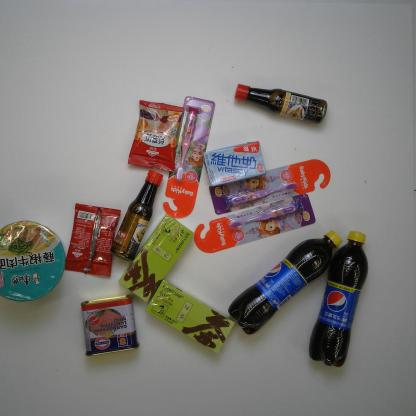Canned Food: (81, 292, 138, 359)
Drink: (229, 231, 346, 333), (311, 222, 368, 369)
Instant Drink: (148, 279, 239, 351), (120, 218, 193, 302), (66, 202, 120, 276), (130, 98, 181, 174)
Instant Noodles: (0, 217, 65, 304)
Milk: (201, 139, 264, 180)
Personal Hygiene: (203, 160, 331, 215), (196, 196, 314, 250), (164, 97, 213, 217)
Seasoner: (114, 167, 165, 259), (232, 76, 328, 122)
